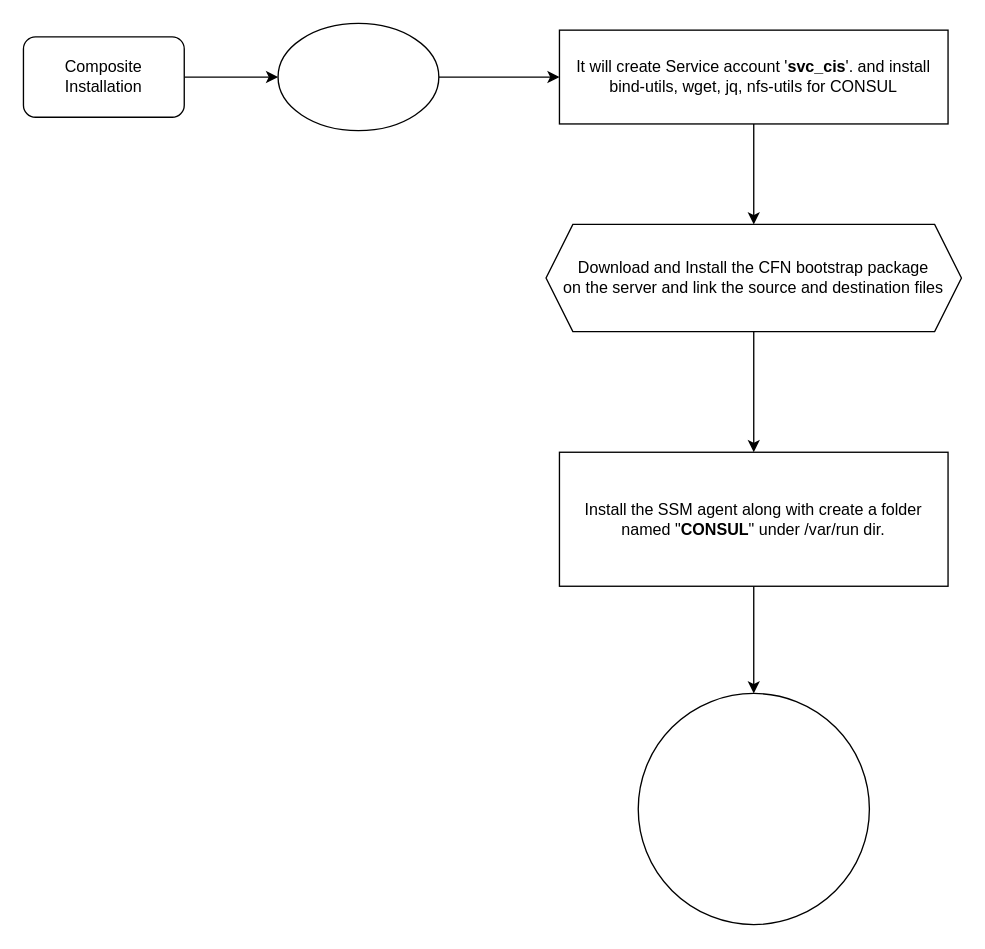
Some shapes in this 985 by 949 pixel diagram are drawn without their labels. The centre of each missing label's shape, as x and y in pixels:
Initial file is "main.yml": (358,76)
Now we are including the "composite.yml" file: (753,808)
